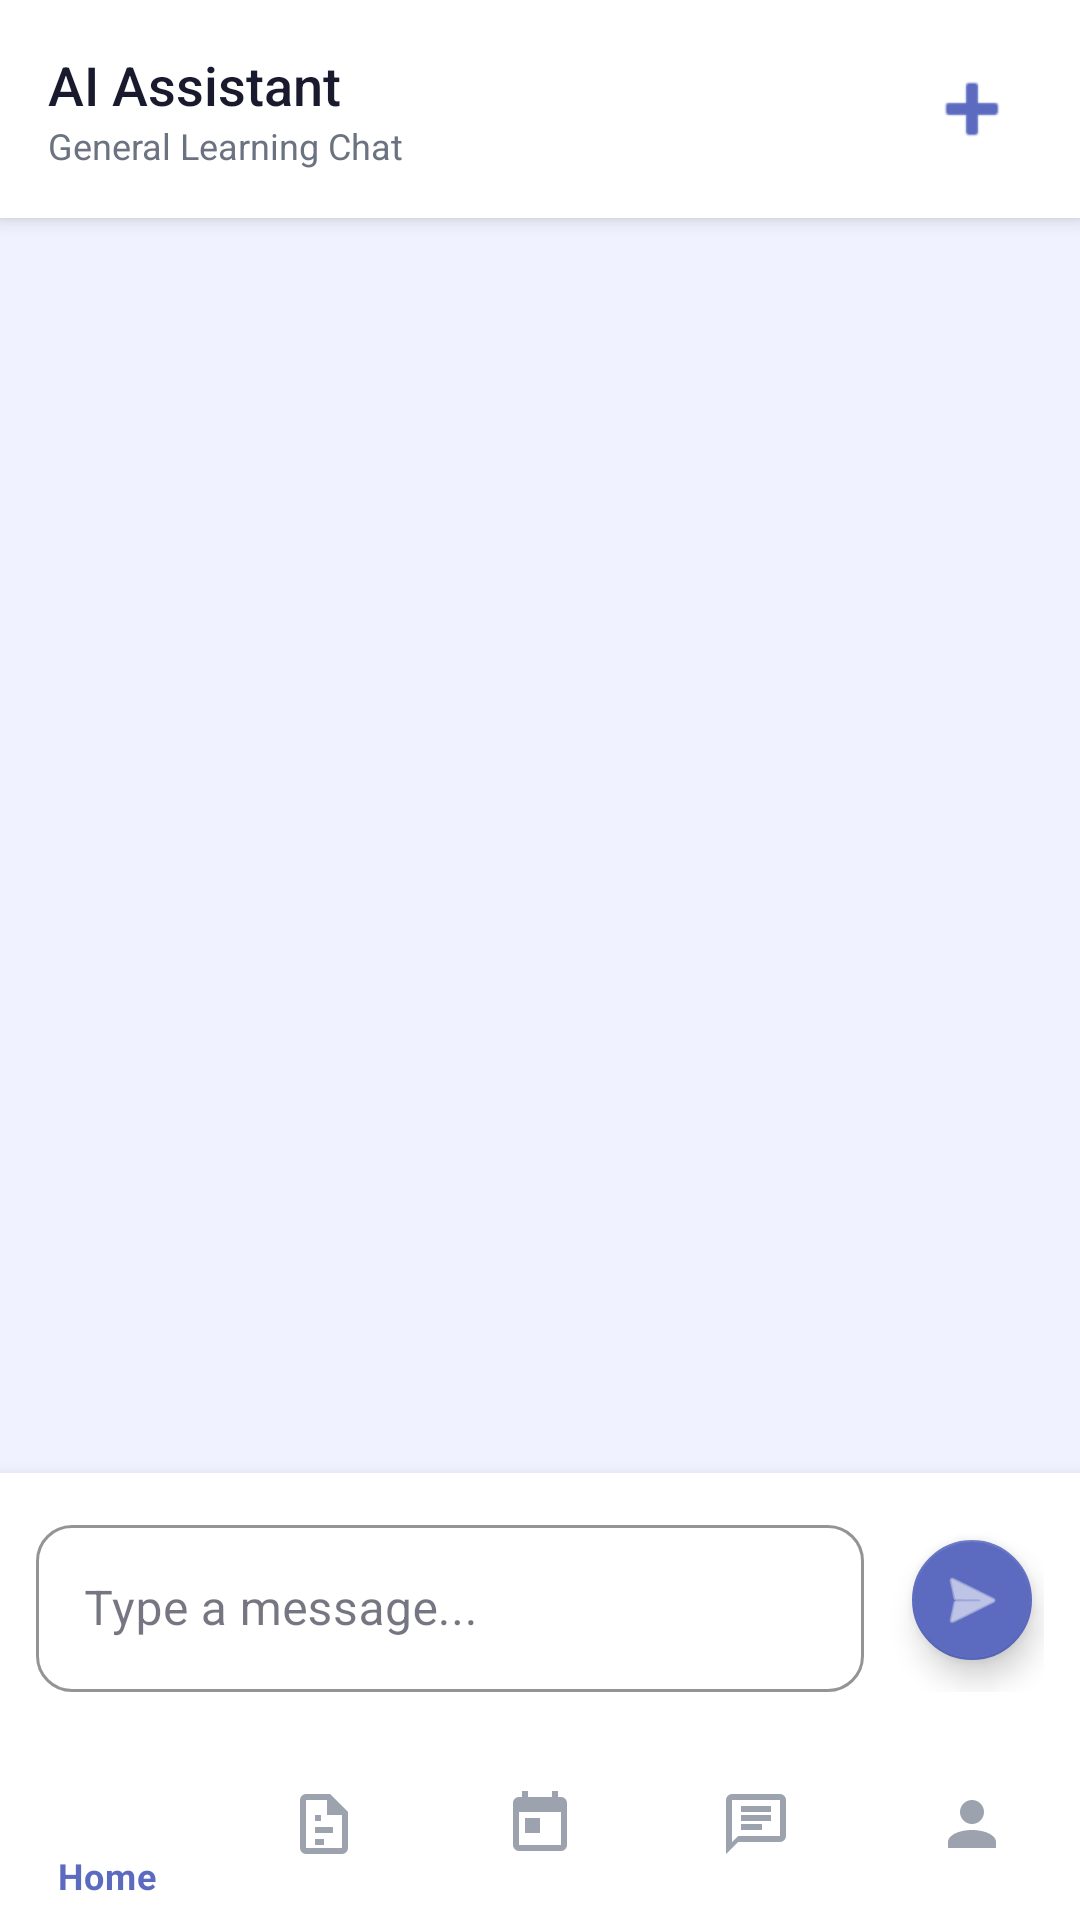

Named icons in this screenshot (1080px×1920px) and their bounding boxes, (x1, y1, x2, y2):
New Chat: (945, 82, 999, 136)
Send: (912, 1540, 1035, 1672)
